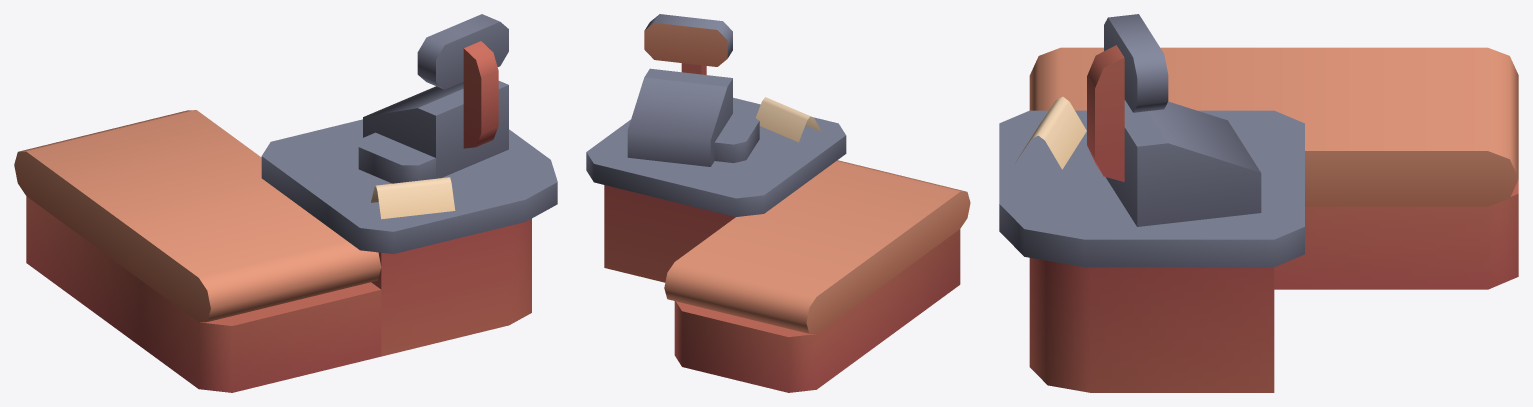
Rendered from cash-register.obj.
3 renders of one model, left to right at view 1: azimuth 30°, elevation 25°; view 2: azimuth 150°, elevation 25°; view 3: azimuth 270°, elevation 25°, orthographic. The views are drawn at different scales.
Parts seen in each view (by area): view 1: cash-register; view 2: cash-register; view 3: cash-register.
Boxes of the visible parts, <box> form: cash-register: <box>14,14,557,392</box>; cash-register: <box>586,14,970,392</box>; cash-register: <box>999,14,1518,392</box>.
Size of the model in its own units: 0.85 by 0.5949 by 0.85.
